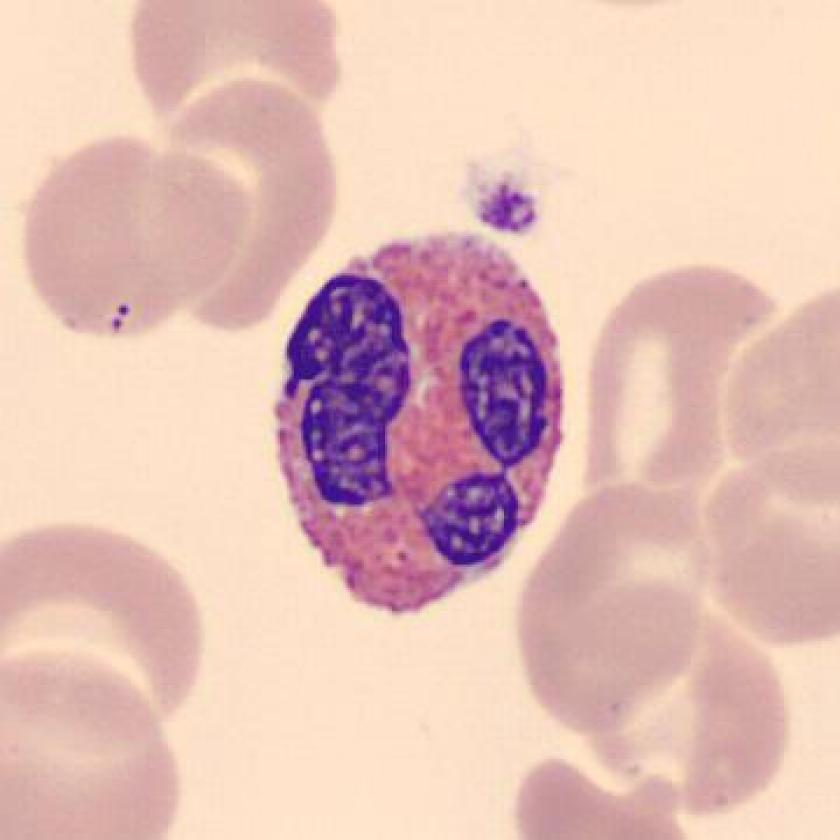eosinophil: (258, 221, 596, 644)
